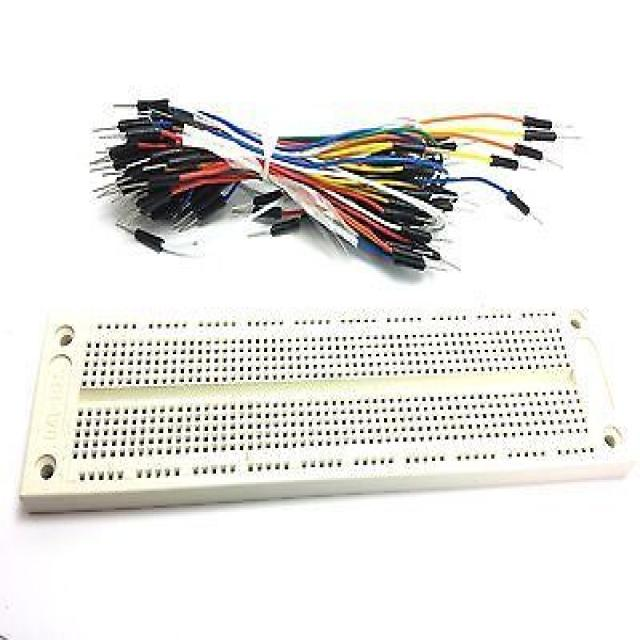Jumper Wires: (83, 81, 592, 284)
